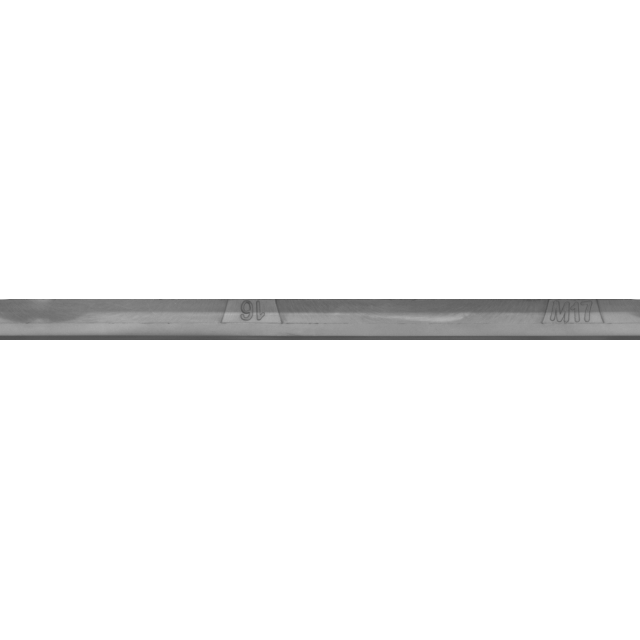mohao: (473, 270, 640, 370)
xuehao: (154, 270, 354, 370)
